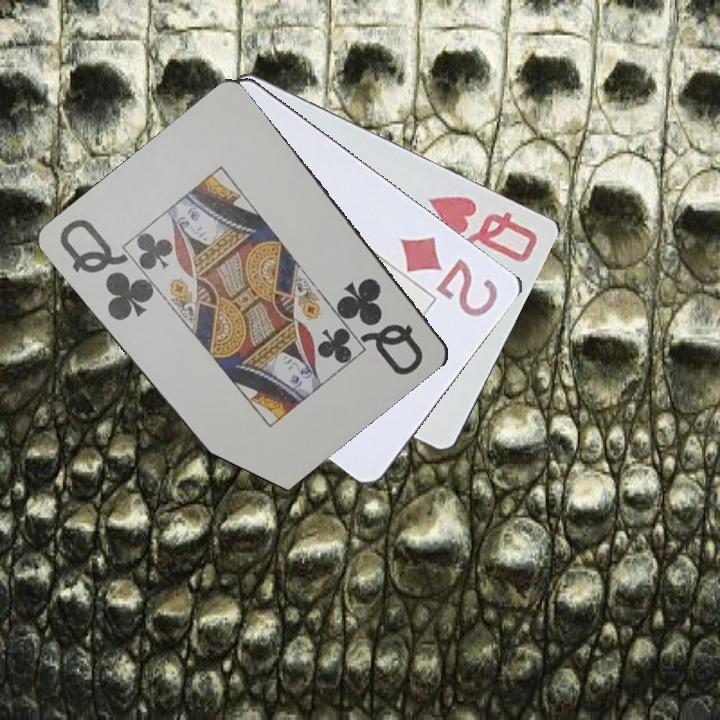2d: (396, 230, 502, 321)
Qc: (55, 215, 158, 324), (336, 274, 427, 379)
Qh: (424, 192, 542, 267)
